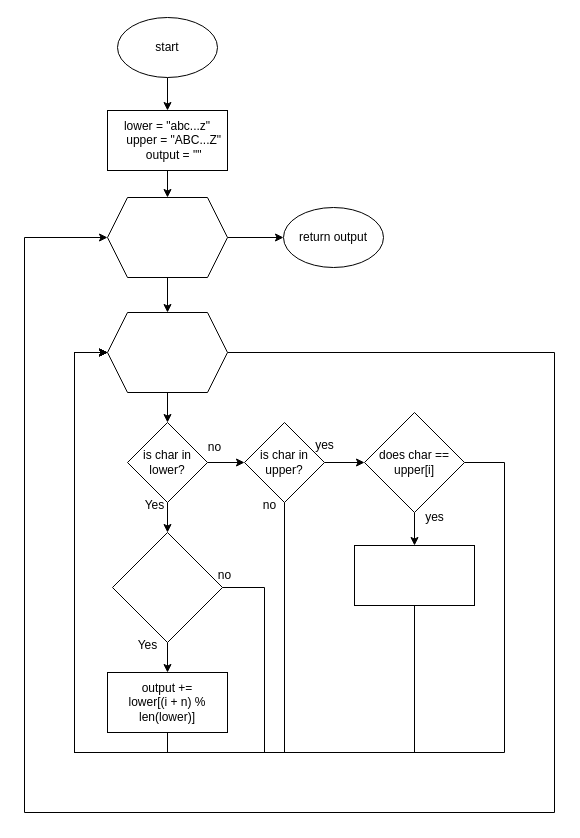
The diagram is 580 pixels wide and 838 high, and some of its shapes have lost their labels. Here are the shapes that lost their labels. From the top down, the centre of each, then its label:
the point at 167,237: for char in word:
the point at 167,352: for i in range(len(lower):
the point at 167,587: does char == lower[i]?
the point at 414,575: output += upper[(i + n) % len(lower)]
